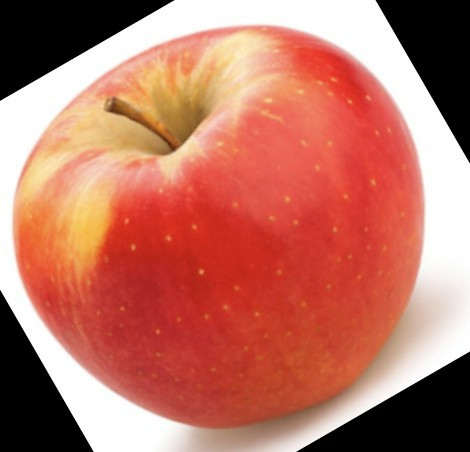fresh_apple: (16, 29, 428, 425)
